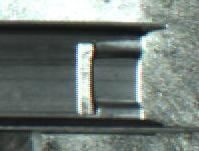press: (54, 17, 187, 140)
